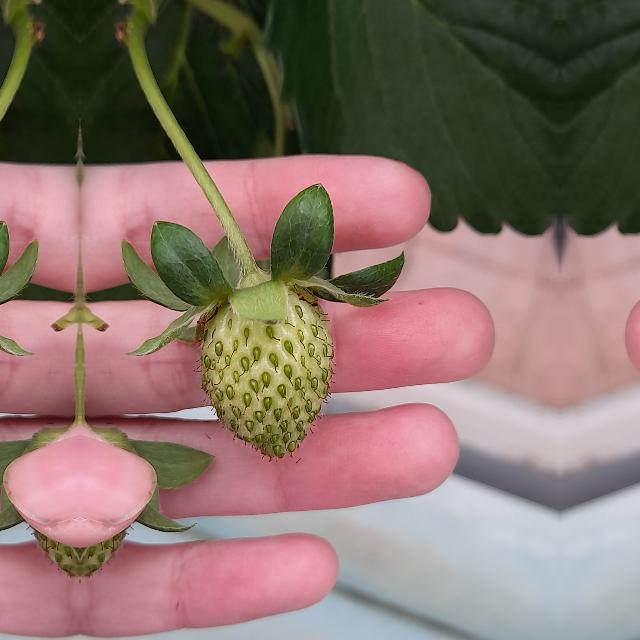Health_25: (200, 284, 334, 458)
